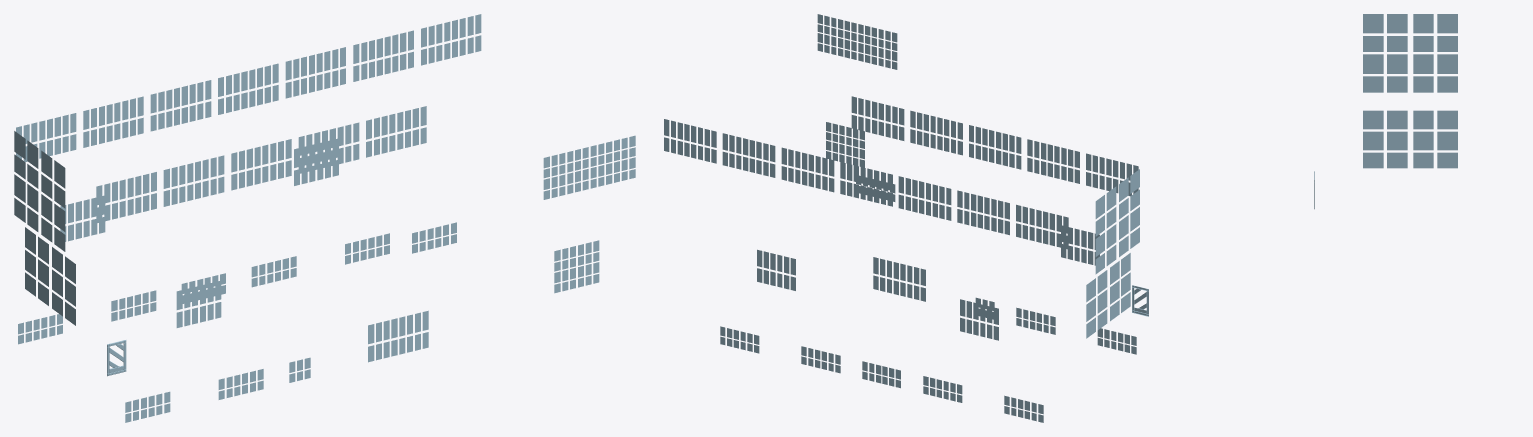
Rendered from FairyTale79.gltf.
3 views of the same model, side by side, from view 1: azimuth 30°, elevation 25°; view 2: azimuth 150°, elevation 25°; view 3: azimuth 270°, elevation 25° (orthographic). The views are drawn at different scales.
Parts seen in each view (by area): view 1: HouseMD01_Glass; view 2: HouseMD01_Glass; view 3: HouseMD01_Glass.
Part boxes in pixels (<box>): HouseMD01_Glass: <box>14,14,635,422</box>; HouseMD01_Glass: <box>664,14,1148,422</box>; HouseMD01_Glass: <box>1314,14,1457,209</box>.
Size of the model in its own units: 16.2 by 7.78 by 10.67.
